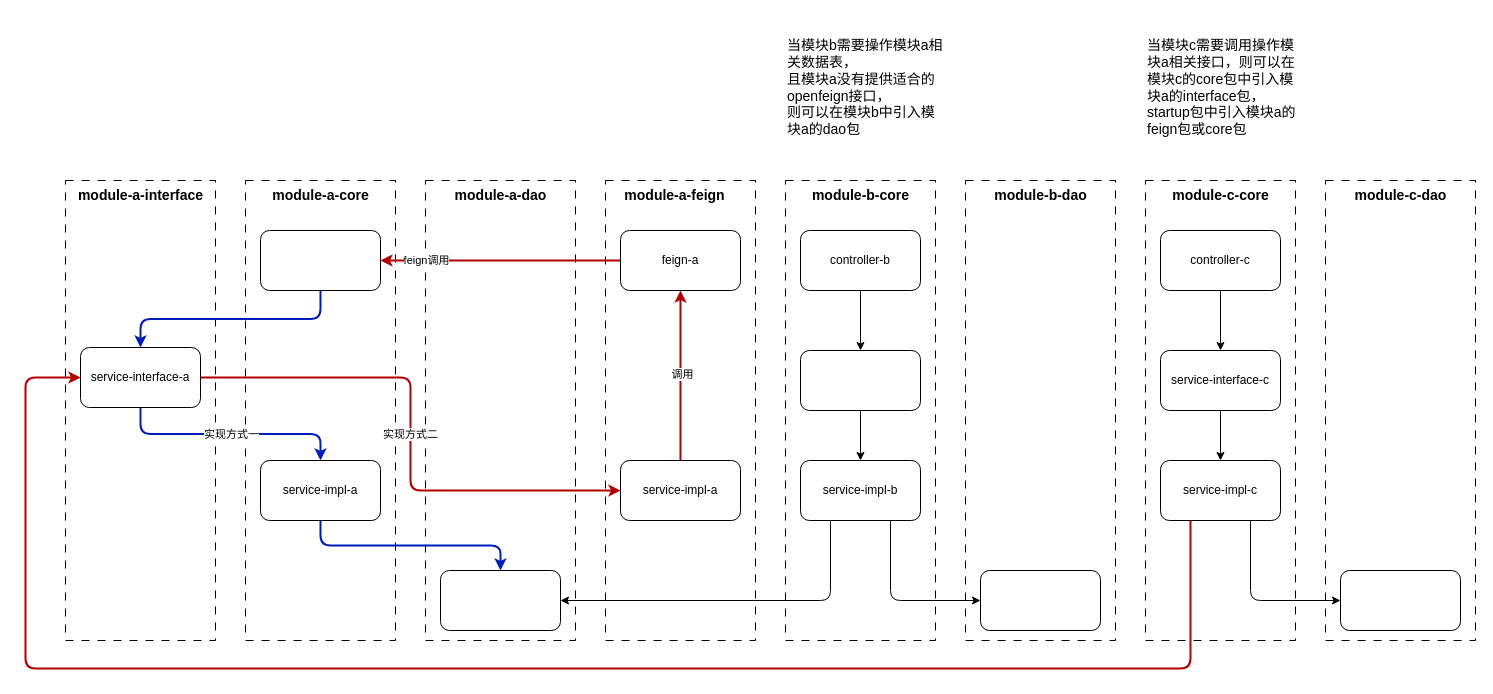
This 1493x694 diagram has some shape labels left out. The shapes that lost their labels are listed below. From the top down, each one's centre as x and y in pixels, then its label:
At [320,260]: "controller-a".
At [860,380]: "service- interface-b".
At [500,600]: "dao-a".
At [1040,600]: "dao-b".
At [1400,600]: "dao-c".
